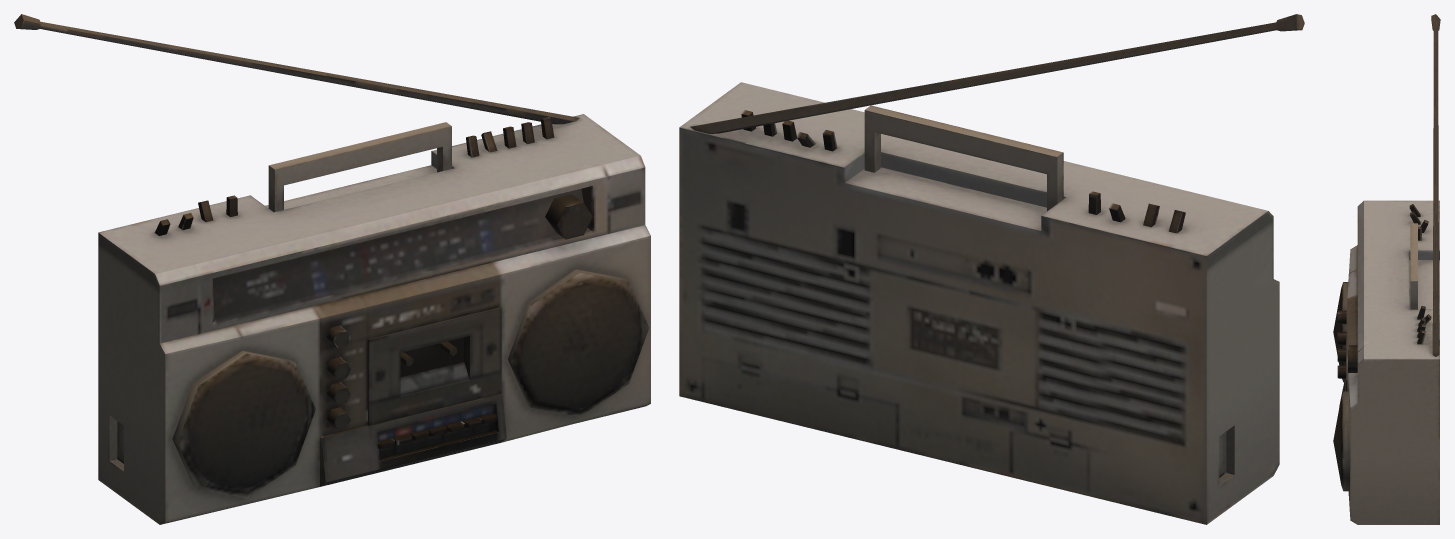
File: taperecorder_mesh_01.fbx
3 renders of one model, left to right at view 1: azimuth 30°, elevation 25°; view 2: azimuth 150°, elevation 25°; view 3: azimuth 270°, elevation 25°, orthographic. The views are drawn at different scales.
Parts seen in each view (by area): view 1: recorder_main, recorder_second; view 2: recorder_main; view 3: recorder_main.
Boxes of the visible parts, x1,y1,x2,y2 form: recorder_main: [14, 14, 650, 524]; recorder_second: [368, 307, 501, 425]; recorder_main: [679, 14, 1304, 524]; recorder_main: [1333, 14, 1440, 524].
Size of the model in its own units: 55.85 by 45.6 by 13.6.
1 material, 1 textured.
